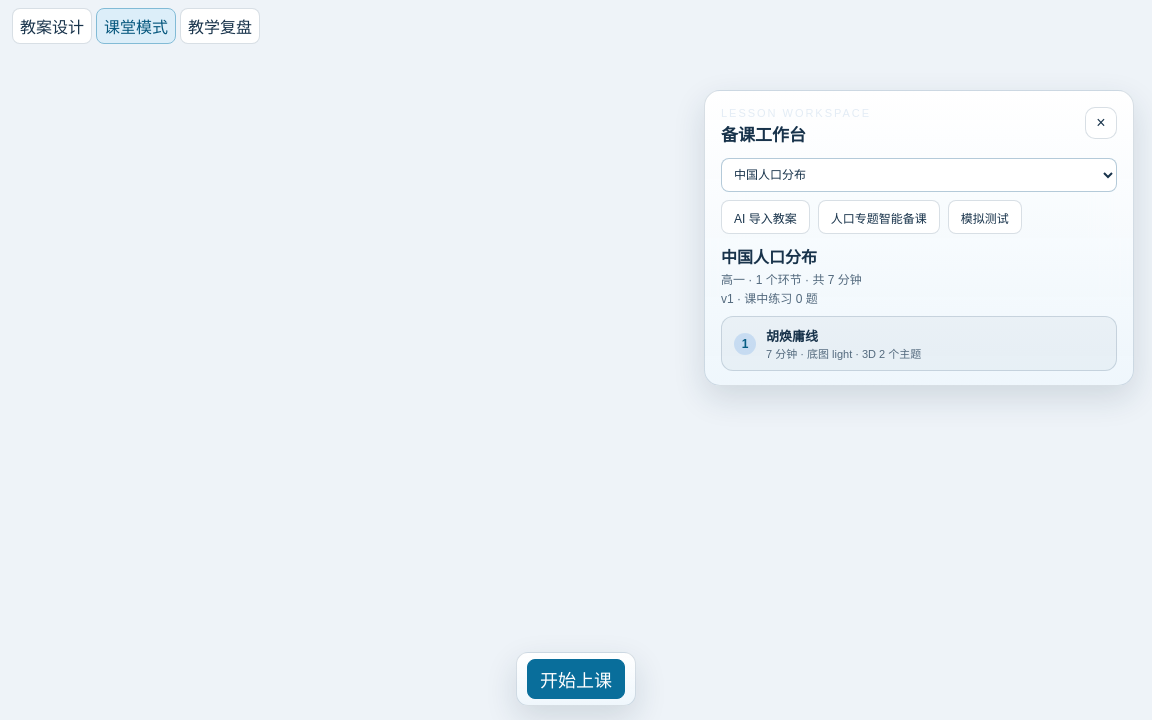
enters the first stage using the new session ID and adopts recorded events
Click the button with test id "start-class" at (576,679), box [527,659,625,699]
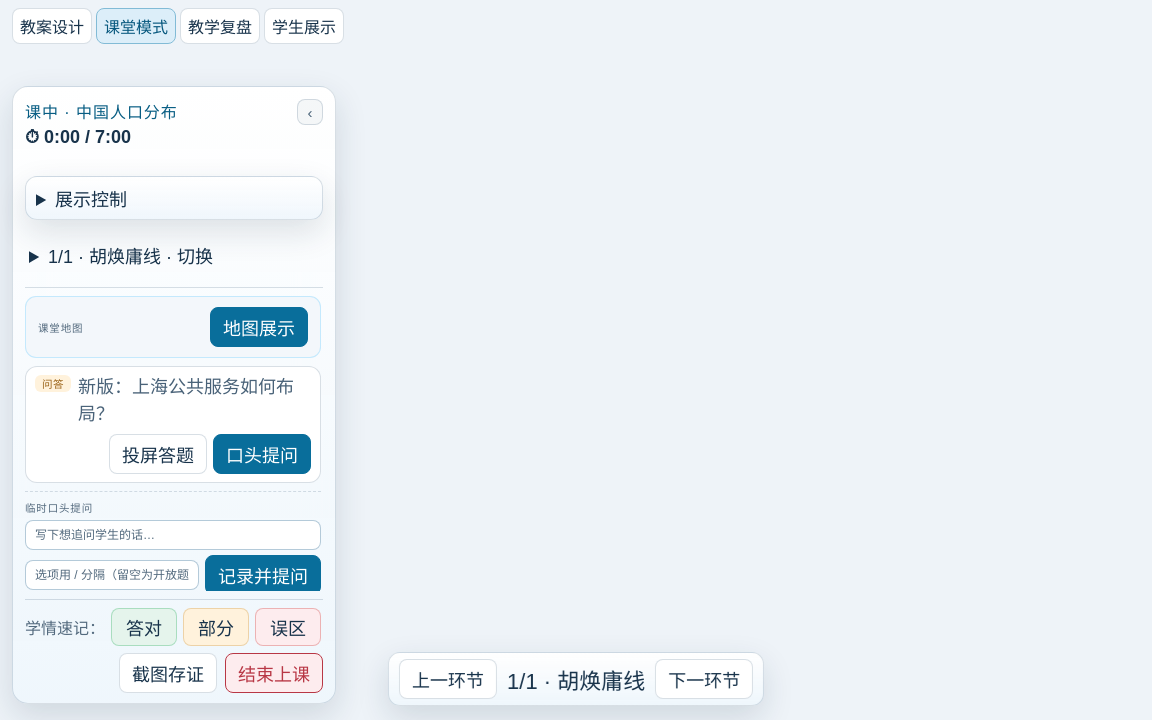
Result: the text "新版：上海公共服务如何布局？" is shown at [78,374,311,428]
